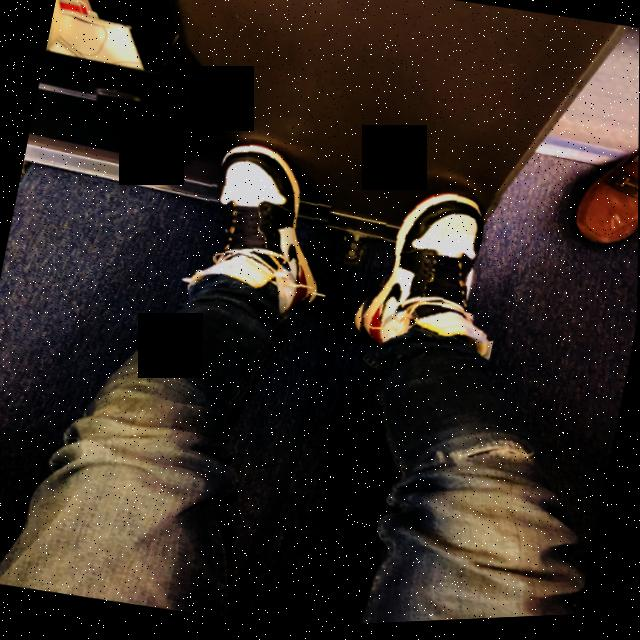shoe: (348, 172, 523, 377), (177, 130, 344, 333)
